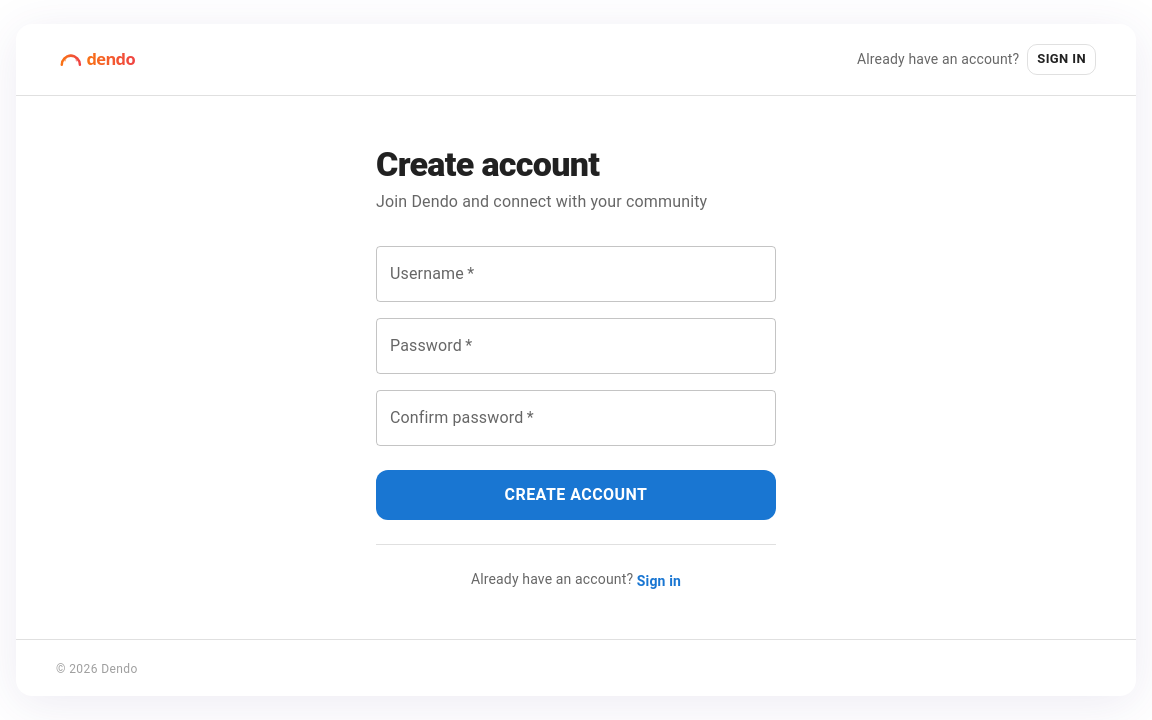
it: SignupPage › disables the button while submitting
Type "newuser" into the field labelled "Username *". click: point(576, 274)
box: [376, 246, 776, 302]
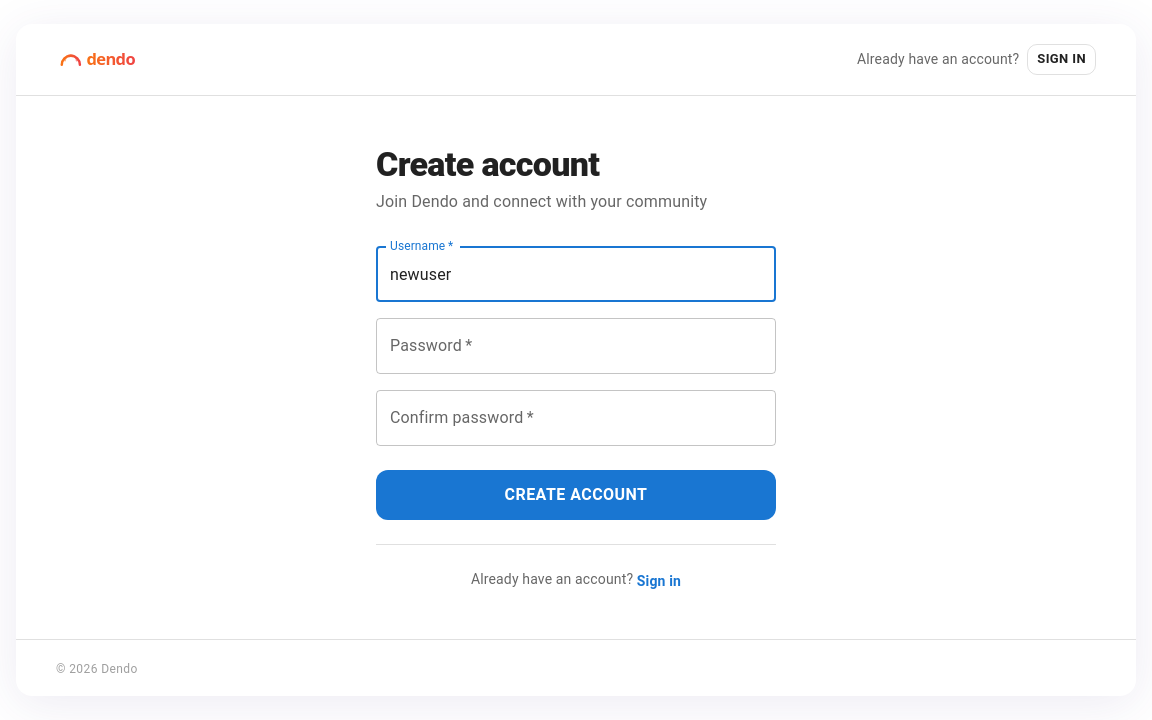
Type "secret123" into the password field labelled "Password *". click: point(576, 346)
box: [376, 318, 776, 374]
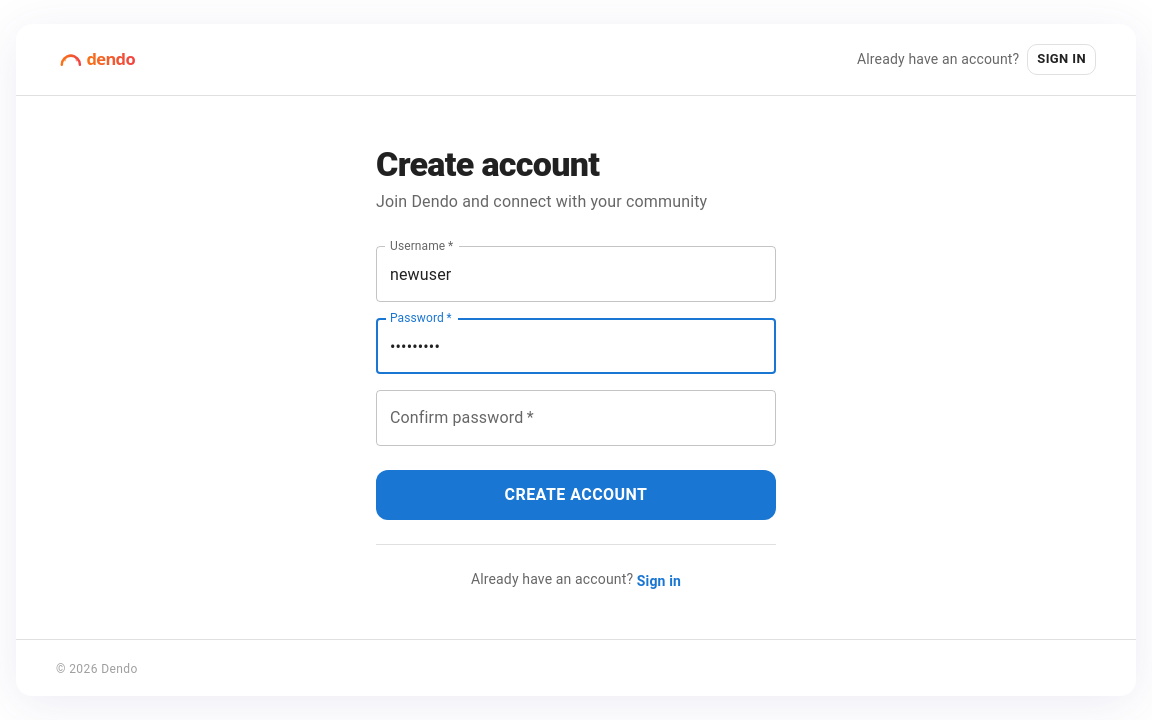
Type "secret123" into the password field labelled "Confirm password *". click: point(576, 418)
box: [376, 390, 776, 446]
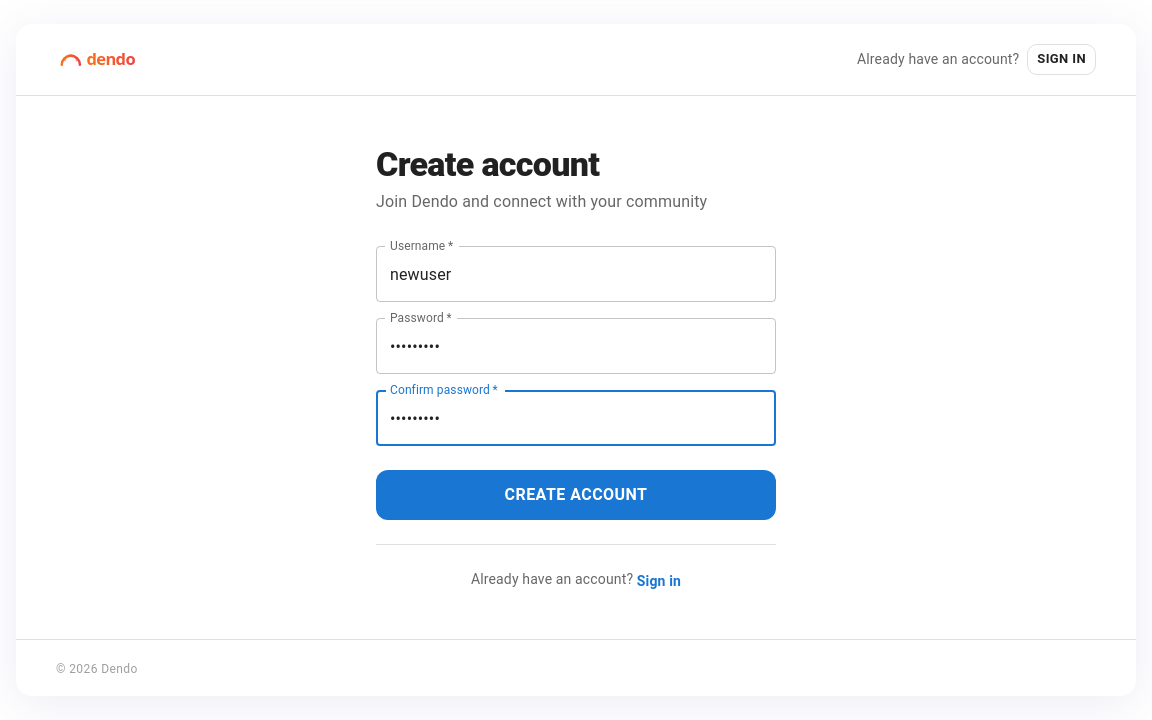
Click the button "Create account". click: point(576, 495)
box: [376, 470, 776, 520]
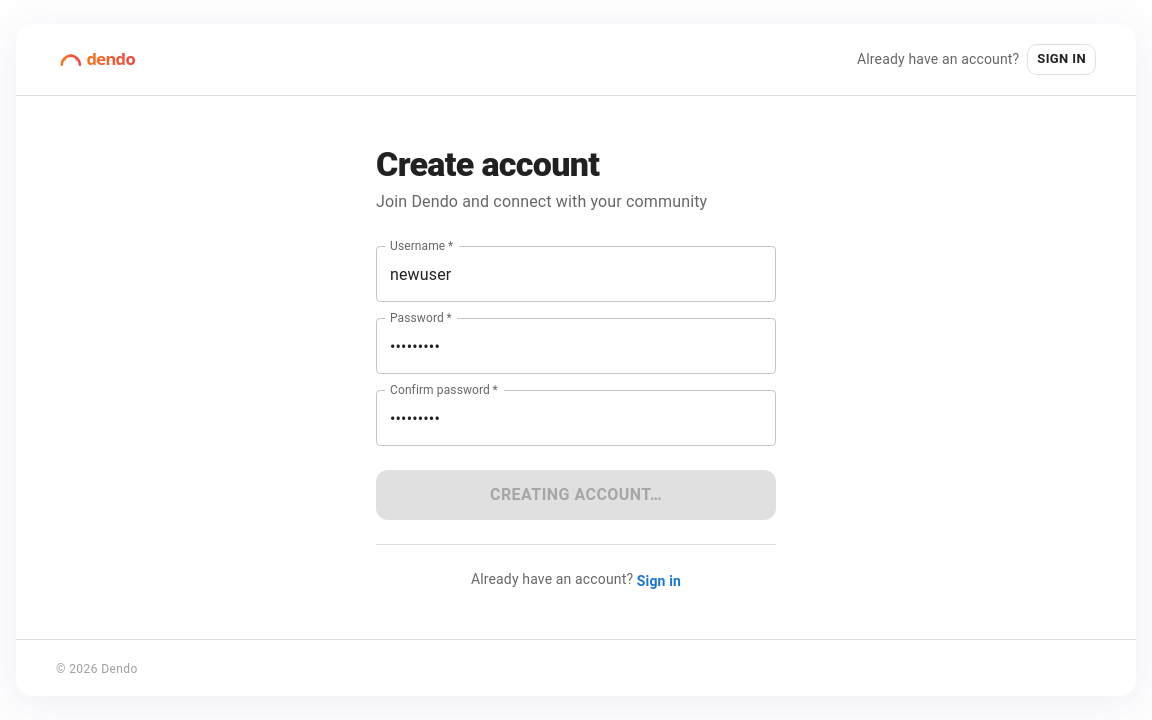
Check: the button "Creating account…" is disabled, box [376, 470, 776, 520]
